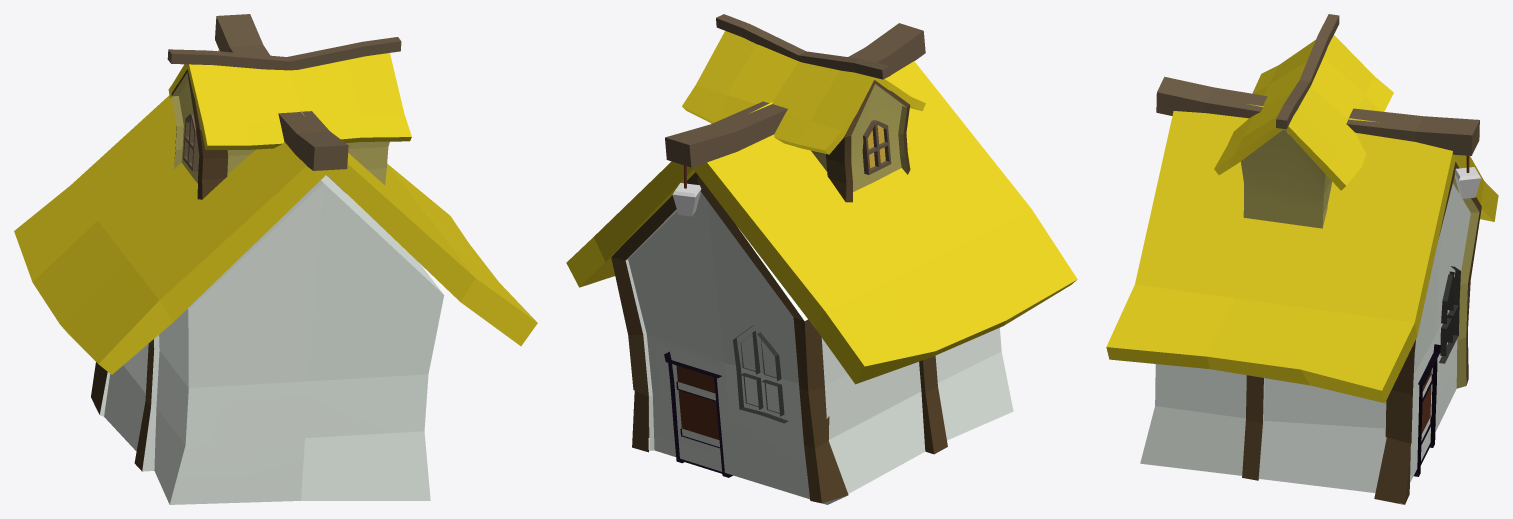
Rendered from home.fbx.
3 renders of one model, left to right at view 1: azimuth 30°, elevation 25°; view 2: azimuth 150°, elevation 25°; view 3: azimuth 270°, elevation 25°, orthographic. The views are drawn at different scales.
Parts seen in each view (by area): view 1: Cube.012; view 2: Cube.012; view 3: Cube.012.
Boxes of the visible parts, x1,y1,x2,y2 form: Cube.012: (14,14,537,504); Cube.012: (566,14,1077,504); Cube.012: (1106,14,1498,504).
Bounding box in the file's own units: 2555 × 2329 × 2130.
